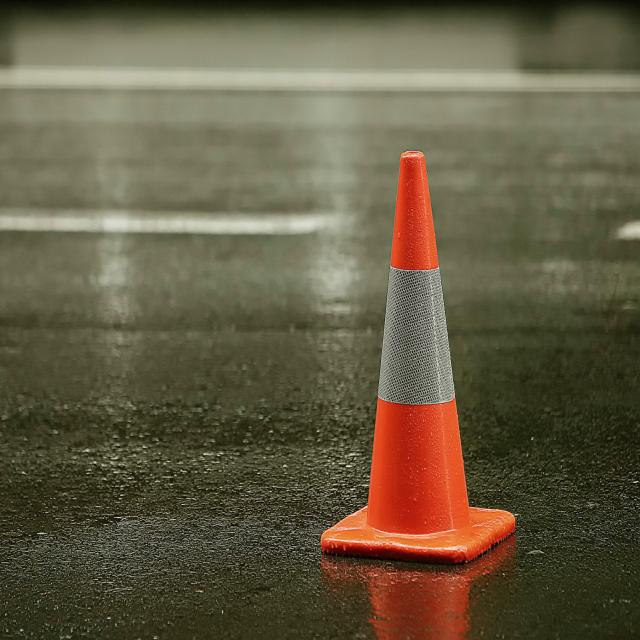cone: (304, 137, 513, 577)
